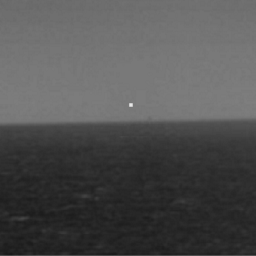Target: (127, 101, 135, 109)
